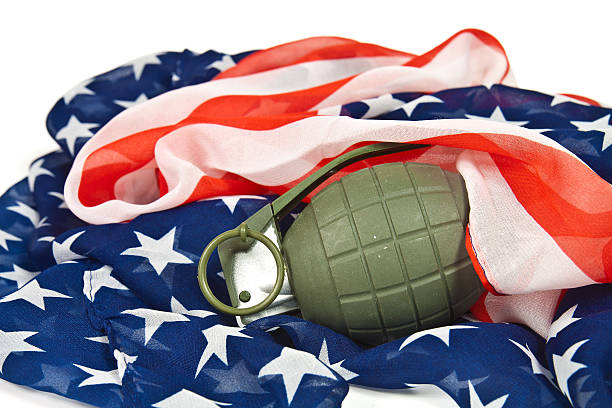e1: (199, 140, 495, 339)
